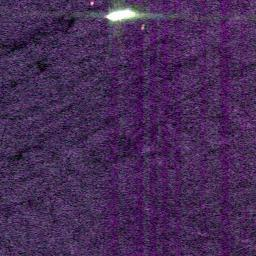Ship: (104, 4, 137, 23)
